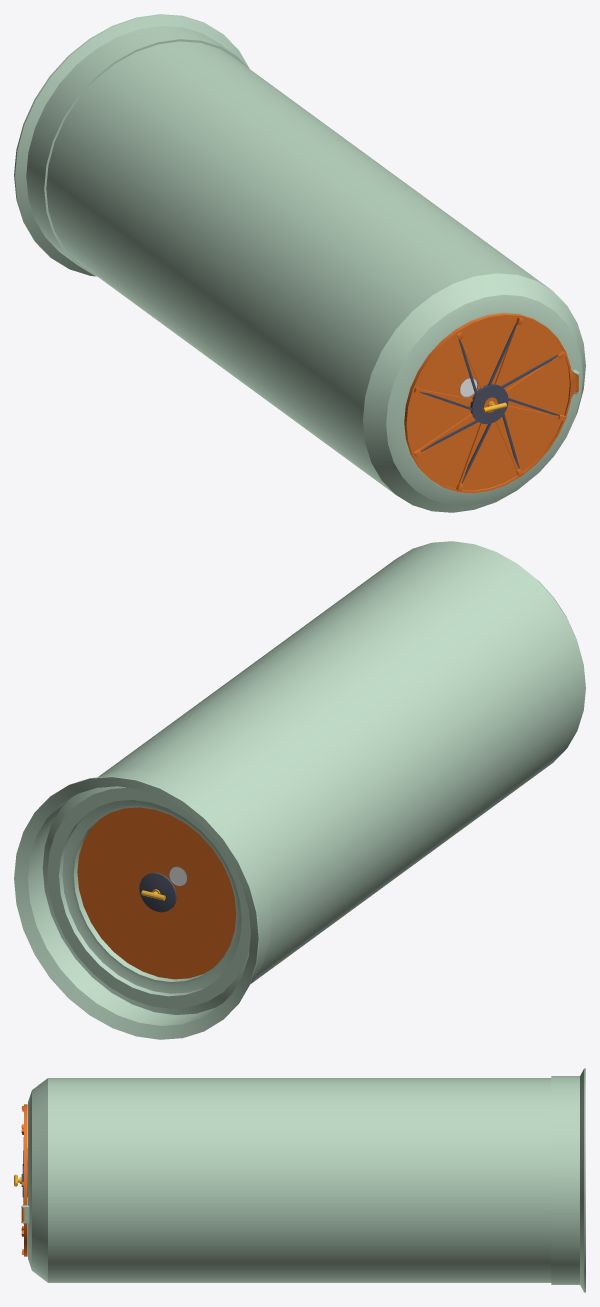
The model's file is Airlock.glb.
3 renders of one model, top to bottom at view 1: azimuth 30°, elevation 25°; view 2: azimuth 150°, elevation 25°; view 3: azimuth 270°, elevation 25°, orthographic. The views are drawn at different scales.
Parts seen in each view (by area): view 1: AirlockStructure_LOD0, AirlockDoor2_LOD0; view 2: AirlockStructure_LOD0, AirlockDoor1_LOD0; view 3: AirlockStructure_LOD0, AirlockDoor2_LOD0.
Part boxes in pixels (left/top/right/bottom): AirlockStructure_LOD0: left=14, top=14, right=585, bottom=512; AirlockDoor2_LOD0: left=404, top=313, right=578, bottom=493; AirlockStructure_LOD0: left=14, top=541, right=585, bottom=1039; AirlockDoor1_LOD0: left=77, top=807, right=236, bottom=979; AirlockStructure_LOD0: left=21, top=1068, right=585, bottom=1292; AirlockDoor2_LOD0: left=14, top=1104, right=27, bottom=1256.
Size of what is drawn, in the model's own units: 4.44 by 4.44 by 11.31.
